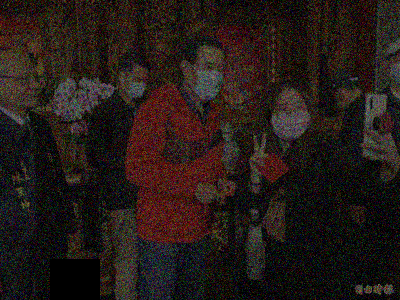with_mask: (270, 98, 313, 142), (189, 60, 228, 100), (122, 73, 150, 100), (334, 92, 351, 110), (389, 56, 400, 83)
without_mask: (6, 68, 41, 109)
